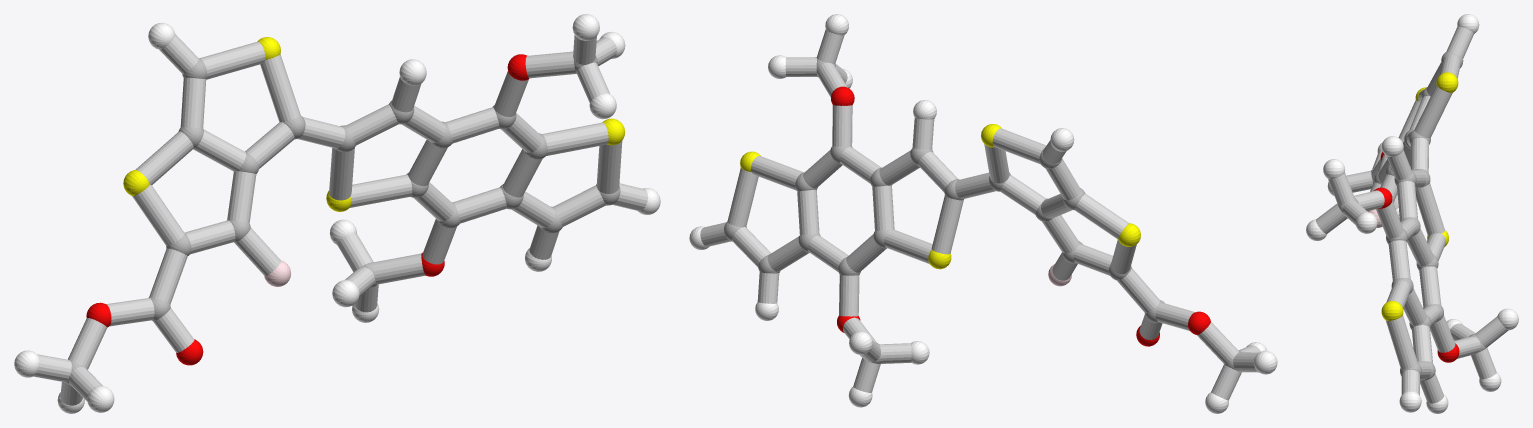
File: color.glb
The picture shows the model from 3 angles, left to right: view 1: azimuth 30°, elevation 25°; view 2: azimuth 150°, elevation 25°; view 3: azimuth 270°, elevation 25°; orthographic projection. The views are drawn at different scales.
Visible parts, largest first — view 1: grp15205, grp8689, grp1, grp13395, grp7241; view 2: grp15205, grp8689, grp1, grp7241, grp13395; view 3: grp15205, grp8689, grp1, grp7241, grp13395.
Part boxes in pixels (x1,y1,x2,y2): grp15205: (33,34,648,405); grp8689: (14,14,660,413); grp1: (65,56,620,385); grp13395: (86,54,529,365); grp7241: (123,37,625,211); grp15205: (700,29,1260,400); grp8689: (689,14,1277,413); grp1: (724,59,1241,369); grp7241: (740,124,1140,269); grp13395: (831,86,1210,346); grp15205: (1316,26,1508,403); grp8689: (1306,14,1518,413); grp1: (1338,51,1485,380); grp7241: (1381,72,1458,320); grp13395: (1374,152,1459,362).
Bounding box in the file's own units: 16.65 × 8.74 × 5.8.
